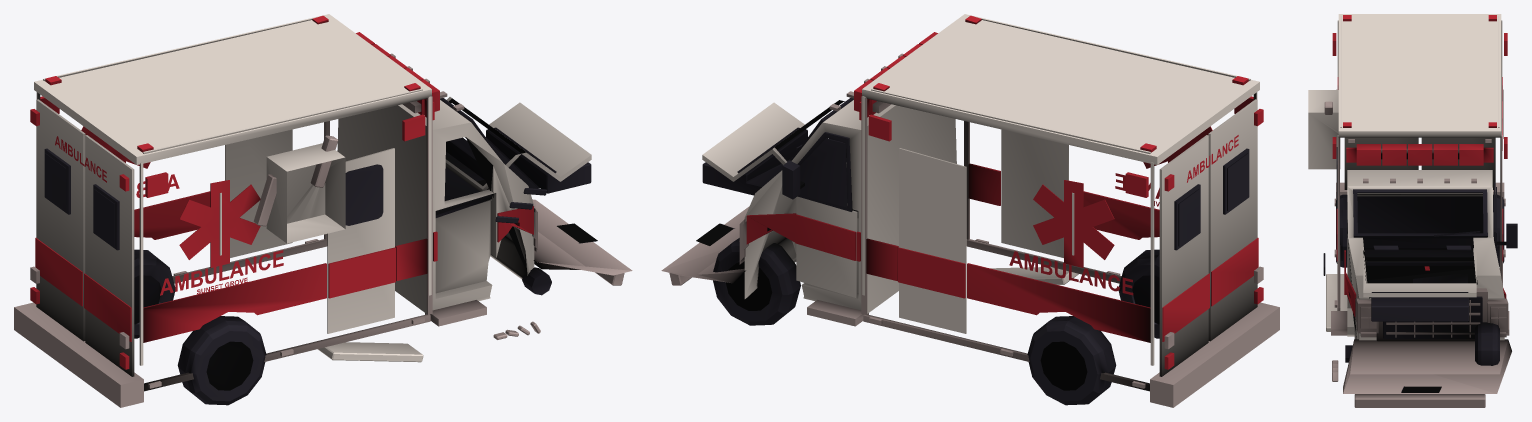
File: veh.ambulance.wrecked.glb
3 views of the same model, side by side, from view 1: azimuth 30°, elevation 25°; view 2: azimuth 150°, elevation 25°; view 3: azimuth 270°, elevation 25° (orthographic). The views are drawn at different scales.
Visible parts, largest first — view 1: body, wheelRL, wheelRR, wheelFL; view 2: body, wheelRR, wheelFR, wheelRL; view 3: body, wheelFR, wheelRL, wheelRR.
Part boxes in pixels (left/top/right/bottom): body: left=14, top=14, right=632, bottom=407; wheelRL: left=177, top=316, right=266, bottom=405; wheelRR: left=134, top=249, right=175, bottom=338; wheelFL: left=522, top=267, right=551, bottom=295; body: left=661, top=14, right=1279, bottom=407; wheelRR: left=1027, top=316, right=1116, bottom=405; wheelFR: left=713, top=238, right=800, bottom=325; wheelRL: left=1118, top=249, right=1159, bottom=338; body: left=1308, top=14, right=1517, bottom=407; wheelFR: left=1475, top=322, right=1499, bottom=365; wheelRL: left=1336, top=194, right=1347, bottom=267; wheelRR: left=1493, top=194, right=1504, bottom=266.
Size of the model in its own units: 6.64 by 3.37 by 2.94.
